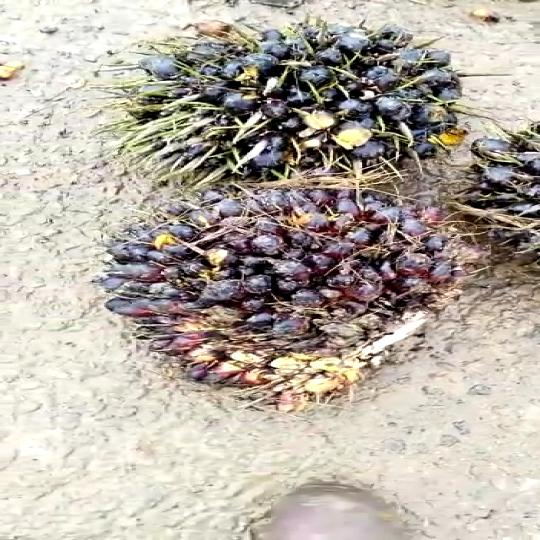mentah: (117, 180, 461, 419), (133, 29, 483, 180)
